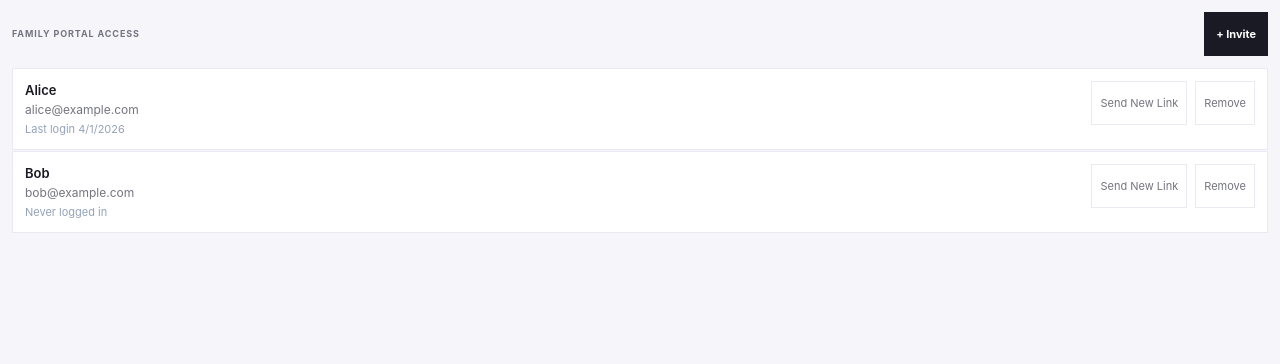
Test: FamilyPortalTab › pre-fills email when opened from "Send New Link"
Click the button "Send New Link" in the row of "alice@example.com".
click(1139, 103)  # box 1091,81 -> 1187,125
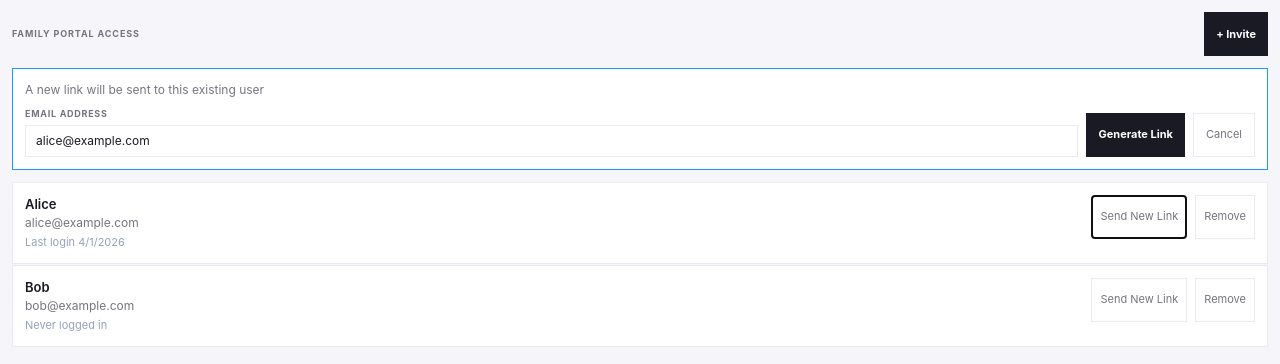
Check: the field showing "alice@example.com" is shown, box 25,124 -> 1078,156
